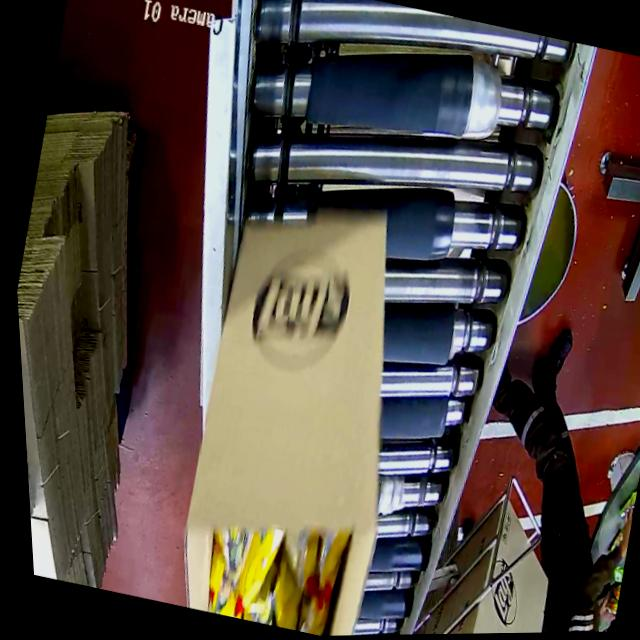SALTED: (198, 513, 351, 638)
